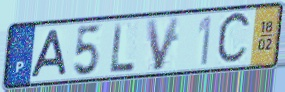1: (197, 14, 214, 69)
5: (71, 23, 105, 78)
A: (29, 28, 69, 80)
C: (214, 8, 253, 69)
L: (109, 21, 136, 75)
V: (144, 14, 183, 73)
